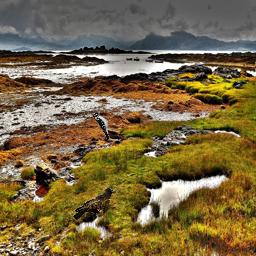Crow: (73, 187, 117, 221)
Woodpecker: (93, 112, 111, 141)
